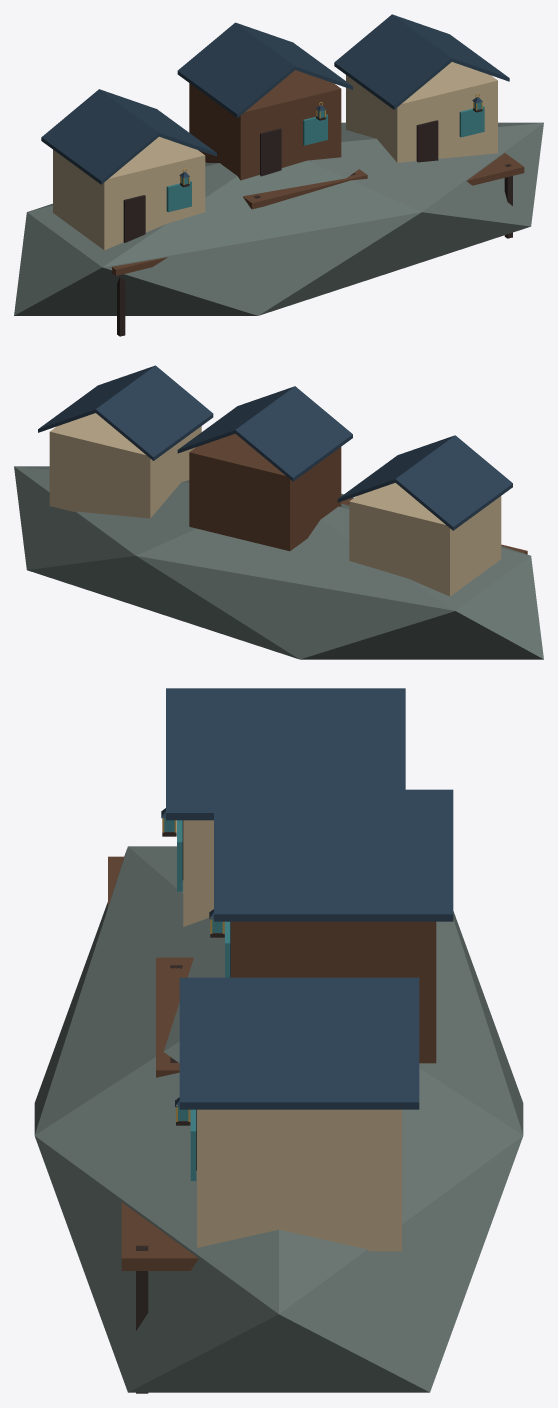
Rendered from PirateCove_SmugglerVillage_Standard.glb.
3 renders of one model, top to bottom at view 1: azimuth 30°, elevation 25°; view 2: azimuth 150°, elevation 25°; view 3: azimuth 270°, elevation 25°, orthographic. The views are drawn at different scales.
Visible parts, largest first — view 1: PirateCove_SmugglerVillage_Standard; view 2: PirateCove_SmugglerVillage_Standard; view 3: PirateCove_SmugglerVillage_Standard.
Boxes of the visible parts, x1,y1,x2,y2 form: PirateCove_SmugglerVillage_Standard: (14,14,543,336); PirateCove_SmugglerVillage_Standard: (14,365,543,659); PirateCove_SmugglerVillage_Standard: (34,688,523,1393).
Size of the model in its own units: 17.89 by 7.62 by 7.15.
